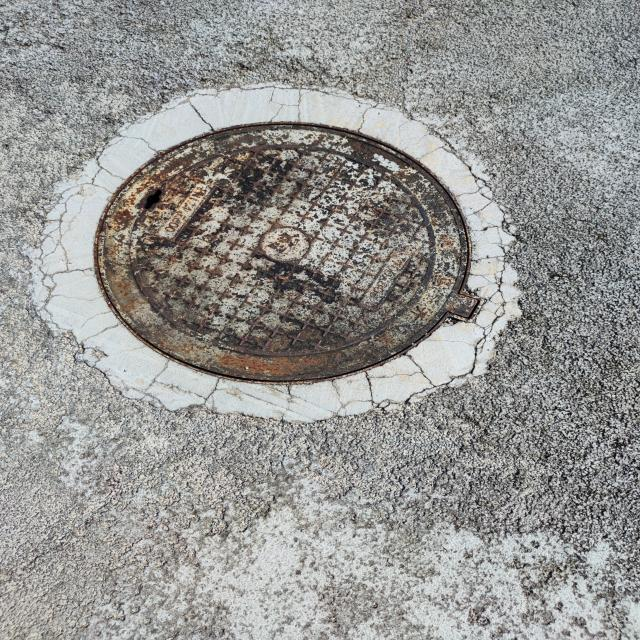Good: (85, 112, 492, 389)
